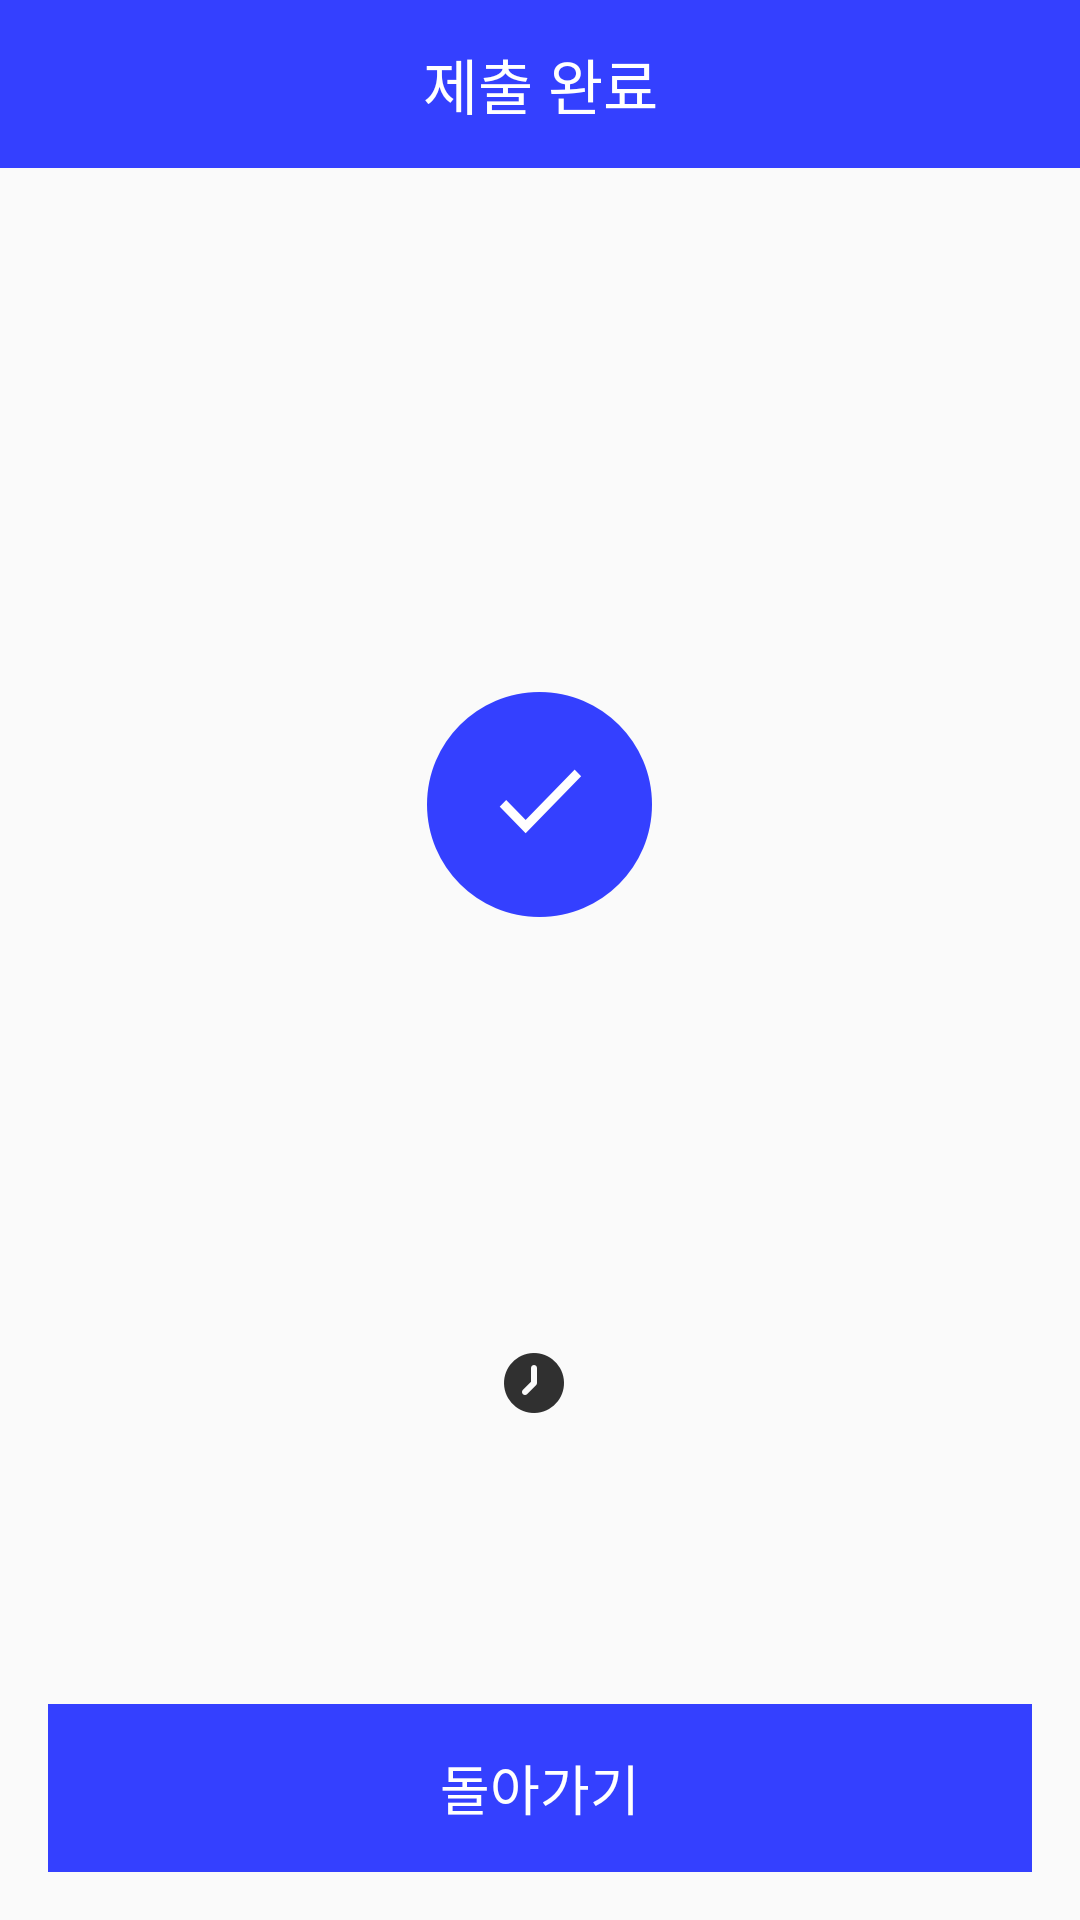

Named icons in this screenshot (1080w x 1920h) and their centers, (x,y):
check: (539,804)
timer: (534,1383)
